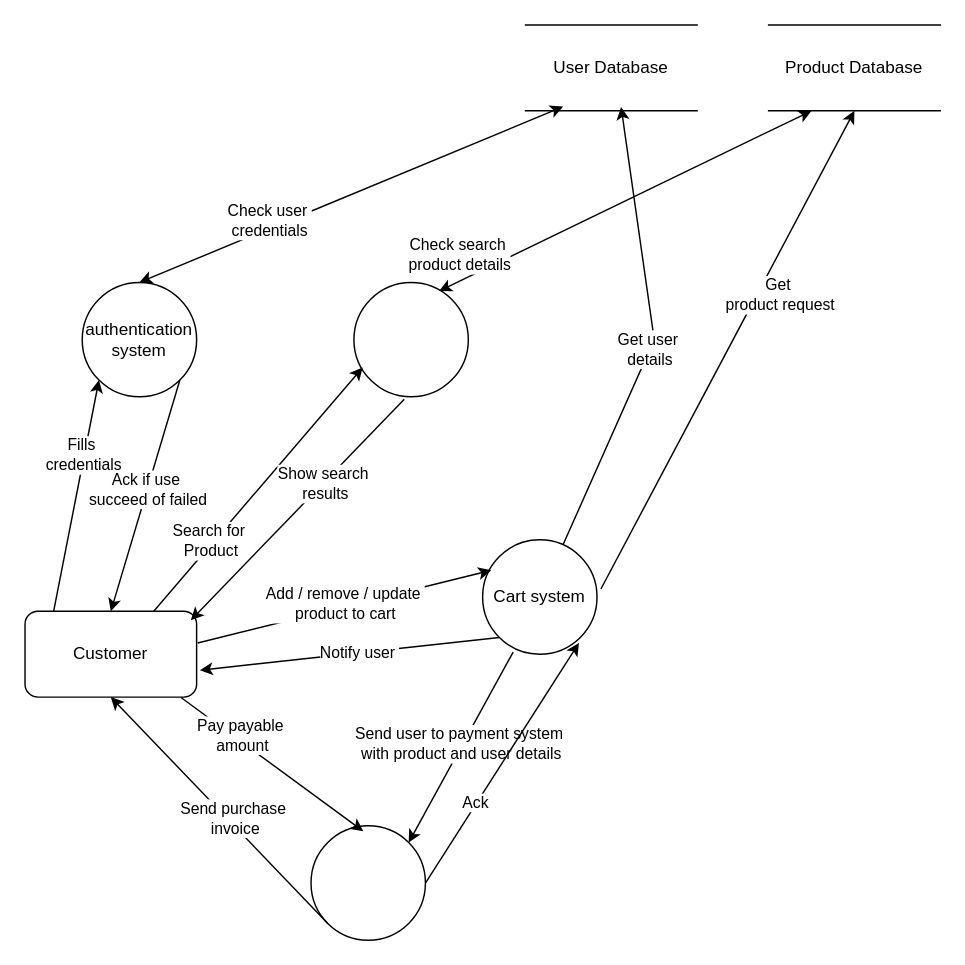
Image size: 965x965. Some labels were removed from this diagram. The shapes that lost their labels are listed below. From the top down, each one's centre as x and y in pixels, then its label:
pixel 410 339: Search system
pixel 367 882: Payment system
